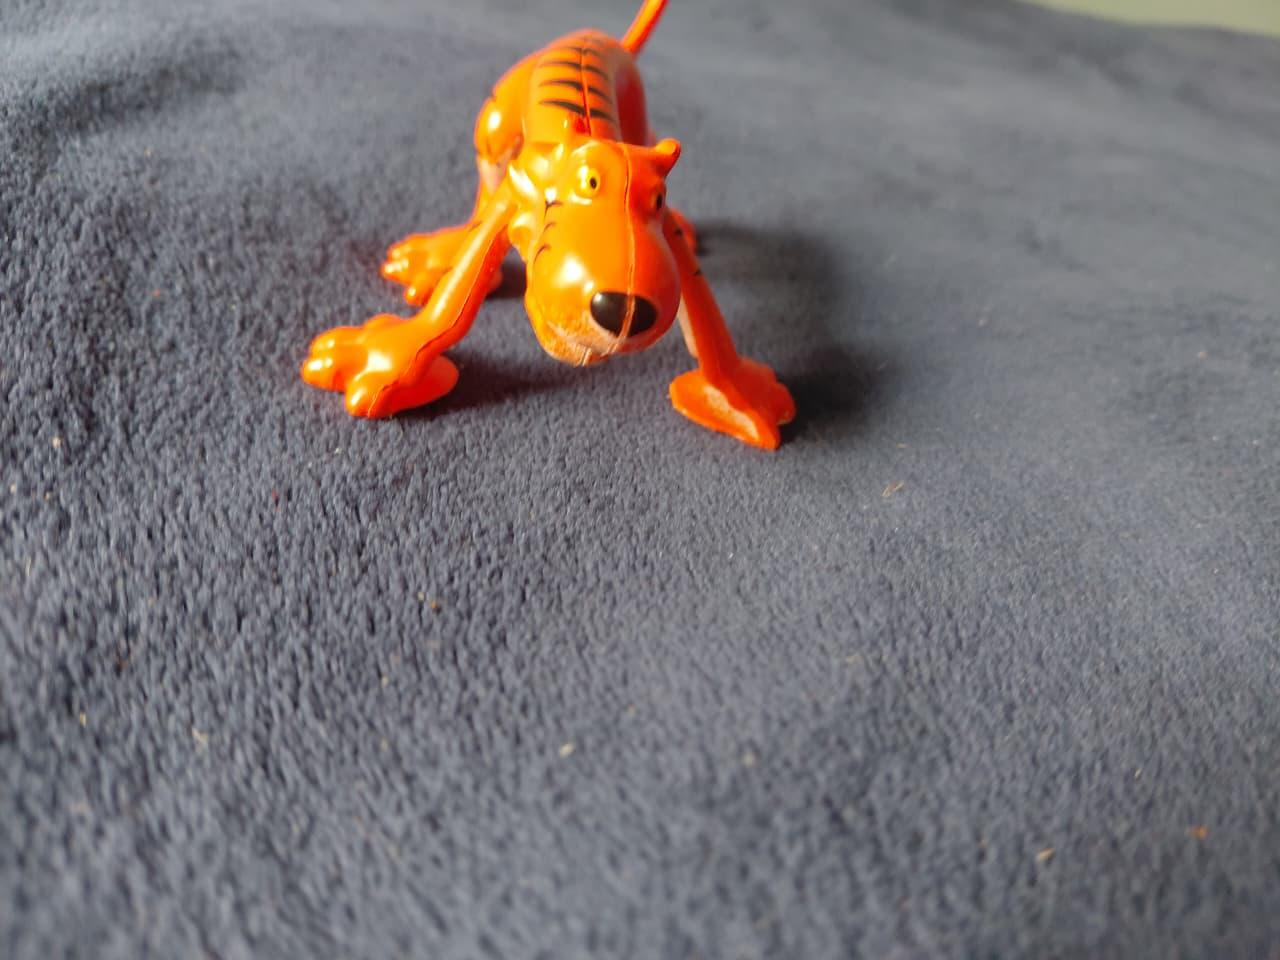tiger: (292, 20, 820, 449)
